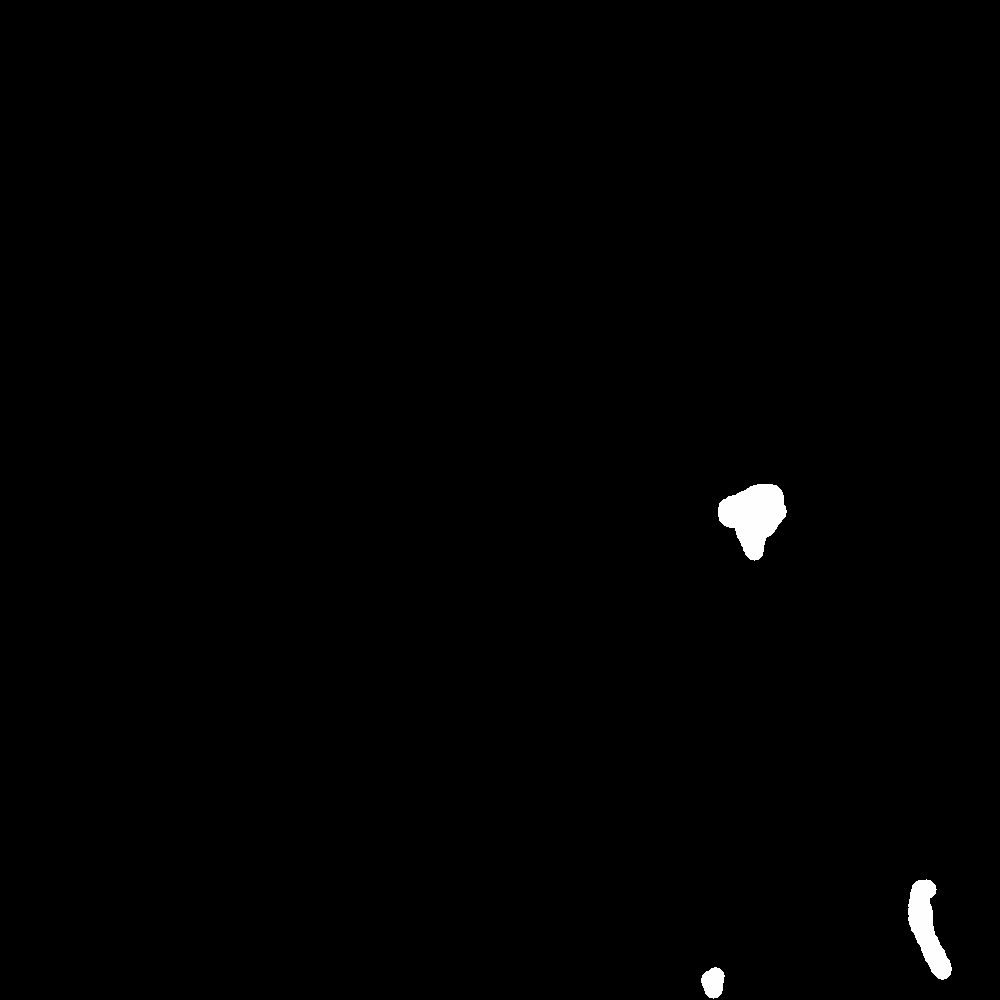illegal: (730, 738, 830, 819), (710, 475, 789, 555), (682, 631, 728, 672), (656, 393, 691, 420)
